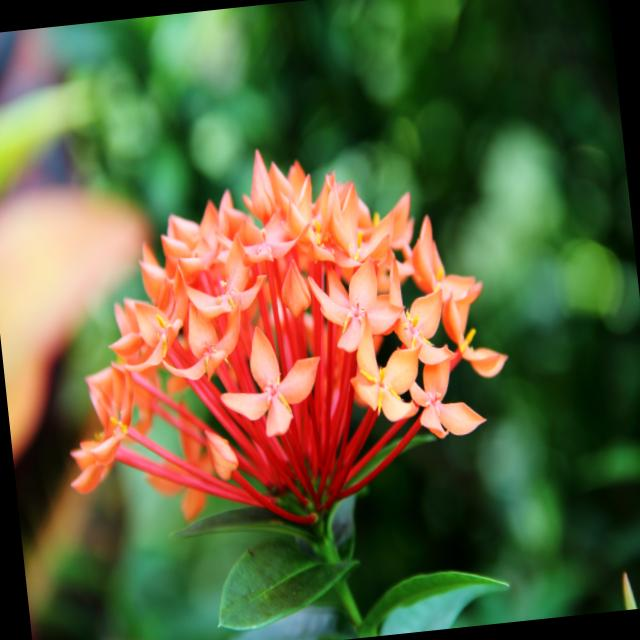Chinese-Ixora: (37, 124, 523, 550)
